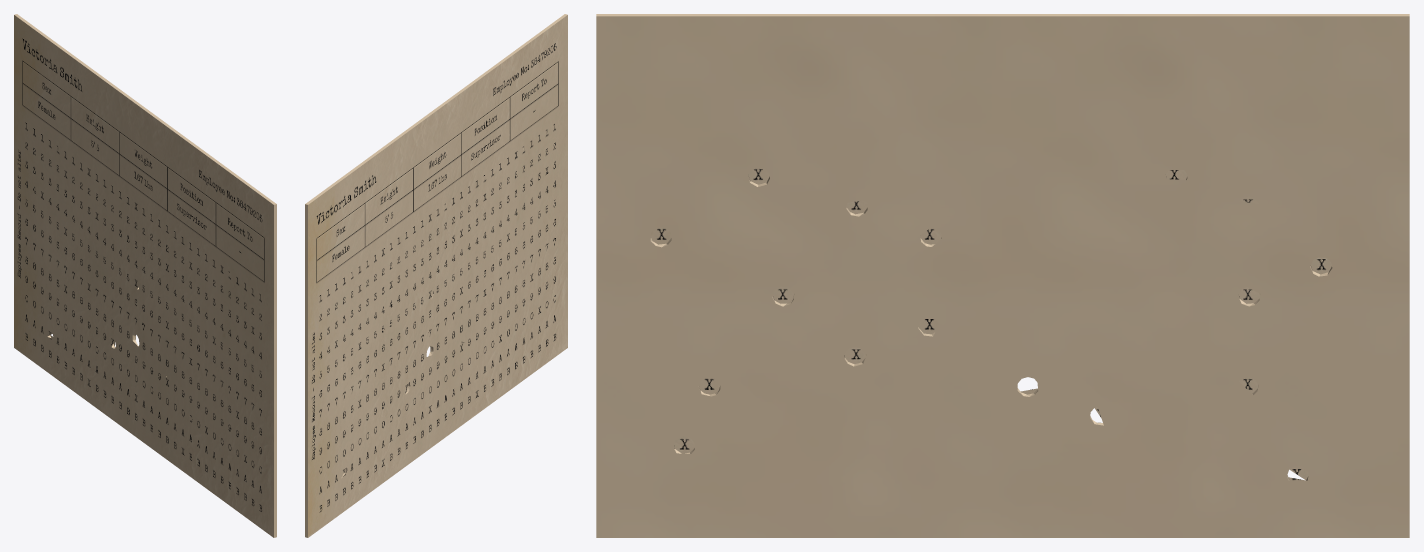
Rendered from employeeCard01Aadi.fbx.
3 views of the same model, side by side, from view 1: azimuth 30°, elevation 25°; view 2: azimuth 150°, elevation 25°; view 3: azimuth 270°, elevation 25° (orthographic). The views are drawn at different scales.
Visible parts, largest first — view 1: Employee 01 Card Puzzle Punched; view 2: Employee 01 Card Puzzle Punched; view 3: Employee 01 Card Puzzle Punched.
Boxes of the visible parts, x1,y1,x2,y2 form: Employee 01 Card Puzzle Punched: (14,14,276,537); Employee 01 Card Puzzle Punched: (305,14,567,537); Employee 01 Card Puzzle Punched: (596,14,1409,537).
Size of the model in its own units: 0.9779 by 100 by 141.
Materials: 1 (1 with a texture image).
